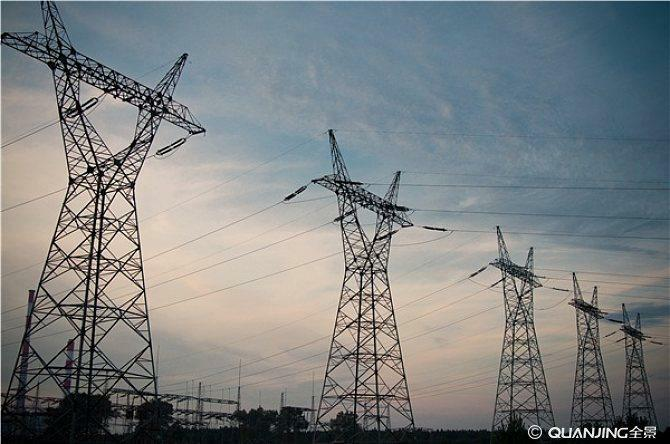power_tower: (0, 0, 220, 398), (287, 116, 426, 433), (481, 222, 562, 431), (566, 266, 623, 425), (613, 296, 663, 424)
